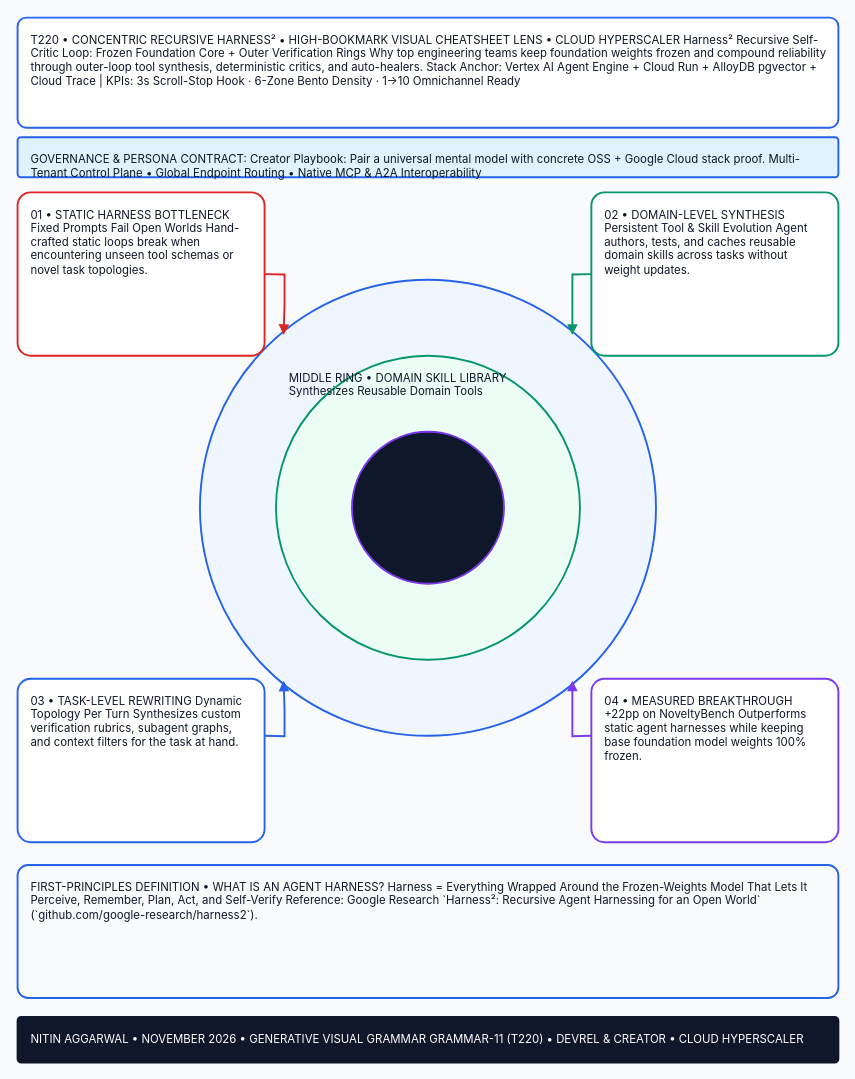
Some shapes in this 855 by 1079 pixel diagram are drawn without their labels. Each missing label, with the box of its shape:
FROZEN CORE MODEL (Weights Frozen) Gemini 4 Argon: (351, 430, 504, 584)
OUTER RING • TASK-LEVEL HARNESS Rewrites Per-Task Scaffolding & Eval Loops: (199, 278, 656, 736)
